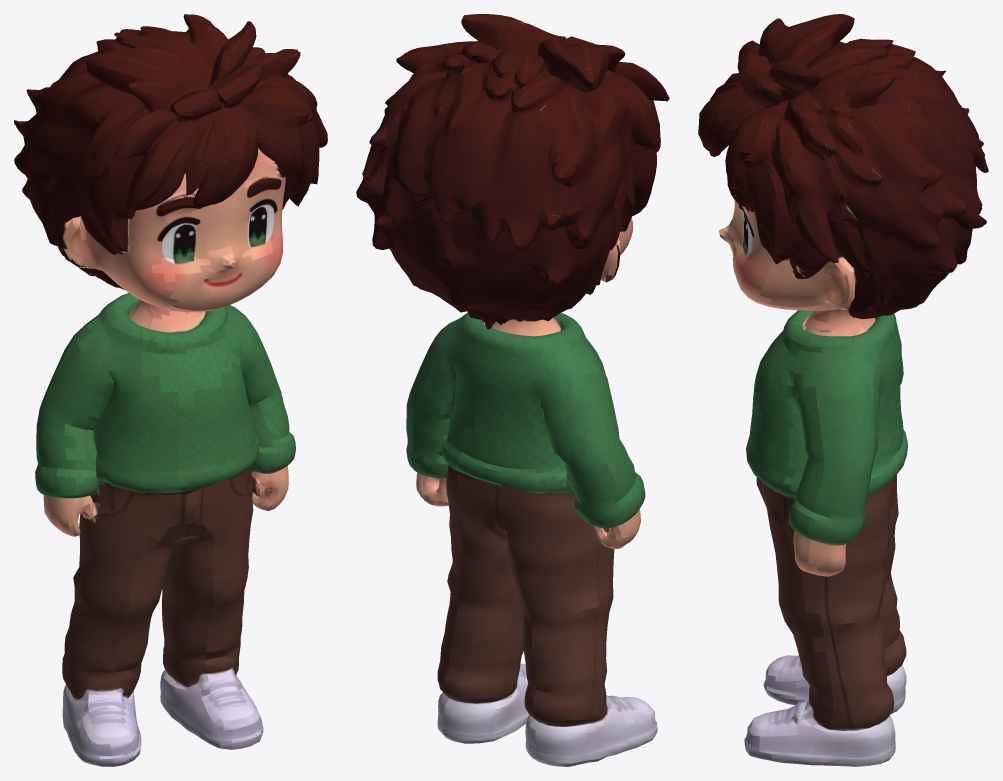
File: kid.glb
3 renders of one model, left to right at view 1: azimuth 30°, elevation 25°; view 2: azimuth 150°, elevation 25°; view 3: azimuth 270°, elevation 25°, orthographic.
Parts seen in each view (by area): view 1: Mesh0; view 2: Mesh0; view 3: Mesh0.
Part boxes in pixels (bbox=[...]): Mesh0: bbox=[14, 14, 327, 766]; Mesh0: bbox=[356, 14, 669, 766]; Mesh0: bbox=[698, 14, 988, 766].
Bounding box in the file's own units: 0.793 × 1.9 × 0.718.
1 material, 1 textured.
